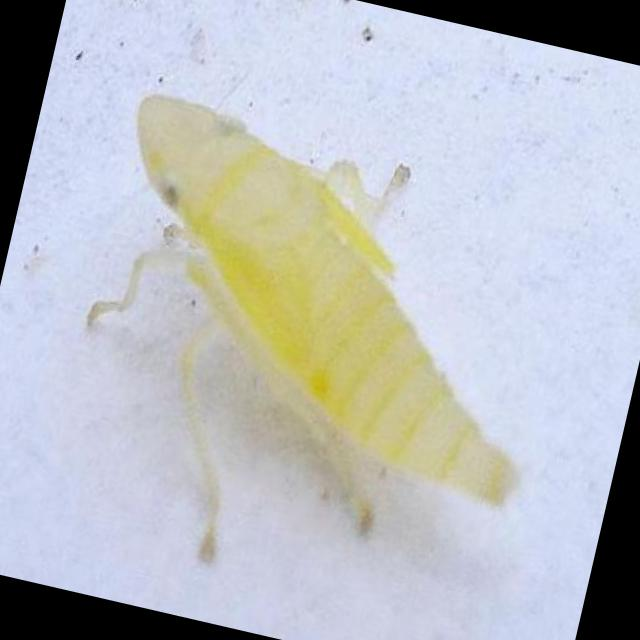green-leafhopper: (84, 90, 518, 557)
